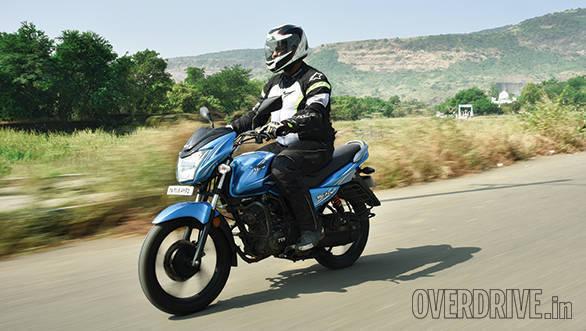helmet: (260, 23, 308, 75)
